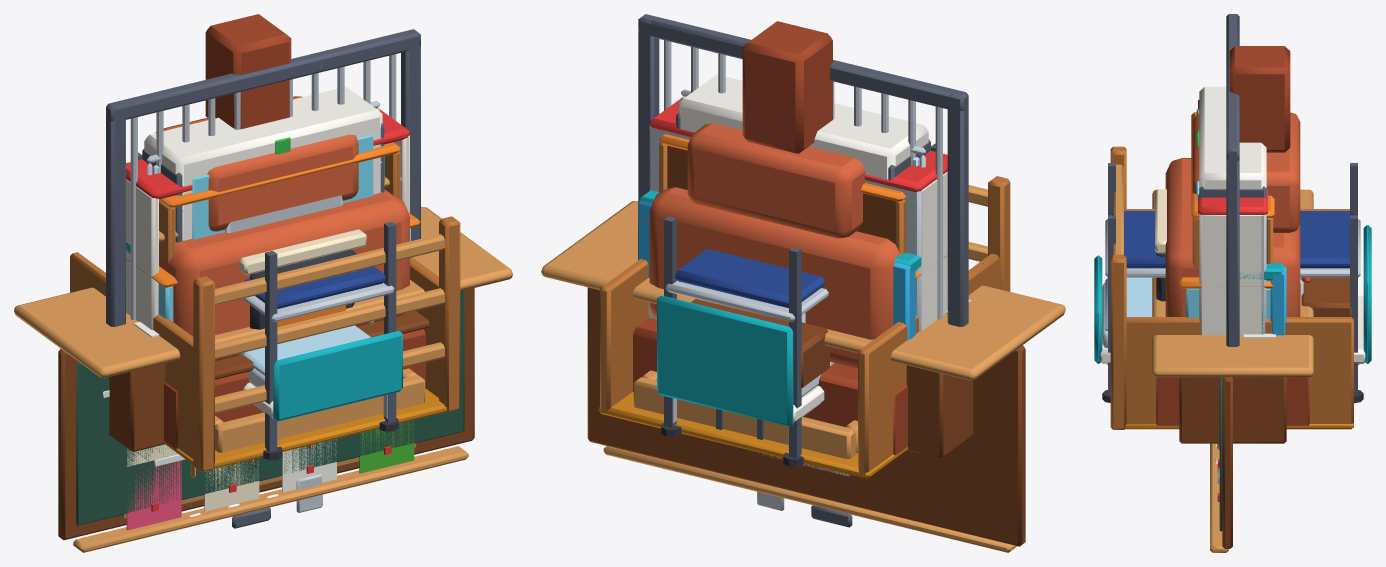
Rendered from facility-props.glb.
3 views of the same model, side by side, from view 1: azimuth 30°, elevation 25°; view 2: azimuth 150°, elevation 25°; view 3: azimuth 270°, elevation 25° (orthographic). The views are drawn at different scales.
Visible parts, largest first — view 1: fp_oven, fp_blackboard, fp_stall, fp_cellbars, fp_meetingtable, fp_medcabinet, fp_hospitalbed, fp_hiringboard, fp_cellbed, fp_shelf, fp_sandbox, fp_breadshelf (+4 smaller); view 2: fp_oven, fp_blackboard, fp_stall, fp_meetingtable, fp_cellbars, fp_hospitalbed, fp_cellbed, fp_medcabinet, fp_shelf, fp_sandbox, fp_hiringboard, fp_breadshelf (+3 smaller); view 3: fp_oven, fp_stall, fp_meetingtable, fp_cellbed, fp_shelf, fp_medcabinet, fp_hospitalbed, fp_cellbars, fp_blackboard, fp_chiller, fp_breadshelf, fp_cakecase (+1 smaller).
Boxes of the visible parts, <box> form: fp_oven: <box>155,14,429,448</box>; fp_blackboard: <box>58,288,474,552</box>; fp_stall: <box>70,216,460,472</box>; fp_cellbars: <box>106,29,420,326</box>; fp_meetingtable: <box>14,207,512,451</box>; fp_medcabinet: <box>144,86,382,240</box>; fp_hospitalbed: <box>239,321,402,460</box>; fp_hiringboard: <box>122,420,416,530</box>; fp_cellbed: <box>138,152,396,451</box>; fp_shelf: <box>126,108,409,329</box>; fp_sandbox: <box>215,368,424,452</box>; fp_breadshelf: <box>159,142,400,262</box>; fp_oven: <box>633,21,907,455</box>; fp_blackboard: <box>587,287,1025,552</box>; fp_stall: <box>598,176,1010,478</box>; fp_meetingtable: <box>541,201,1065,458</box>; fp_cellbars: <box>638,14,968,326</box>; fp_hospitalbed: <box>657,295,833,466</box>; fp_cellbed: <box>664,143,935,458</box>; fp_medcabinet: <box>678,74,928,179</box>; fp_shelf: <box>649,97,947,331</box>; fp_sandbox: <box>633,370,857,458</box>; fp_hiringboard: <box>643,424,871,503</box>; fp_breadshelf: <box>659,134,905,254</box>; fp_oven: <box>1154,46,1309,425</box>; fp_stall: <box>1110,146,1353,429</box>; fp_meetingtable: <box>1152,189,1313,443</box>; fp_cellbed: <box>1105,163,1360,395</box>; fp_shelf: <box>1198,99,1267,335</box>; fp_medcabinet: <box>1196,86,1266,201</box>; fp_hospitalbed: <box>1094,225,1371,403</box>; fp_cellbars: <box>1226,14,1239,346</box>; fp_blackboard: <box>1210,377,1232,552</box>; fp_chiller: <box>1239,263,1286,335</box>; fp_breadshelf: <box>1191,112,1274,275</box>; fp_cakecase: <box>1179,277,1281,317</box>.
Bounding box in the file's own units: 3.2 × 3.5 × 2.06.
